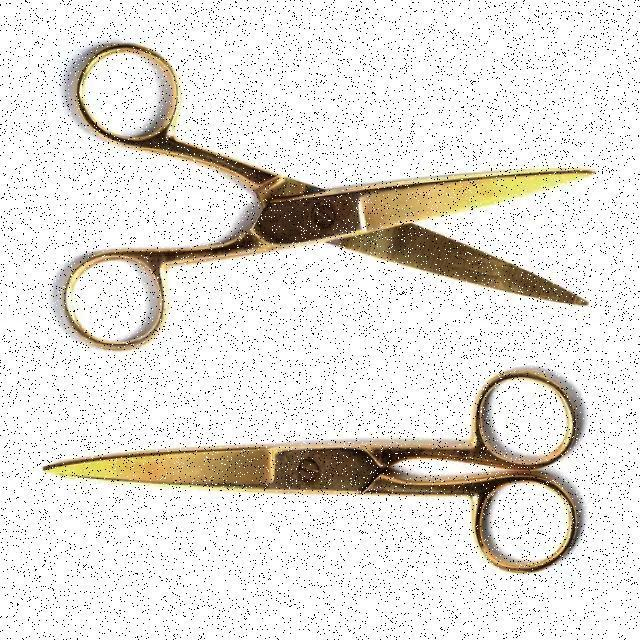scissors: (59, 31, 597, 359), (36, 366, 582, 576)
